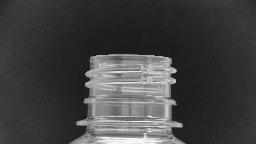No Cap: (71, 50, 187, 130)
